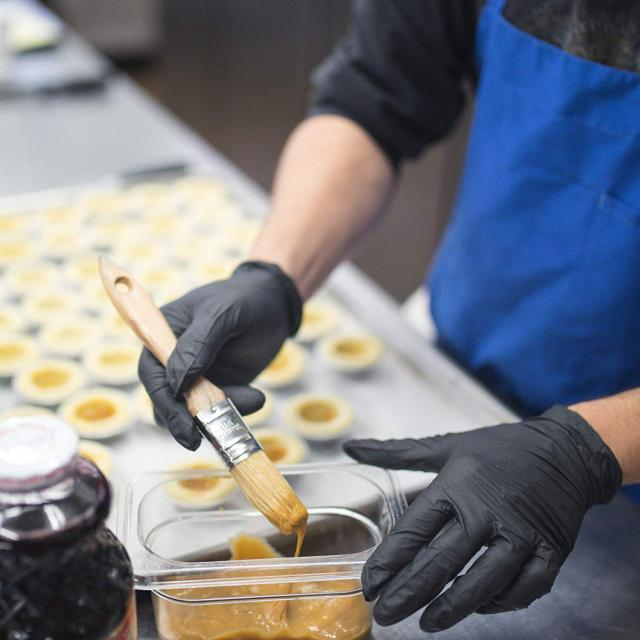gloves: (345, 401, 624, 633), (141, 259, 303, 454)
